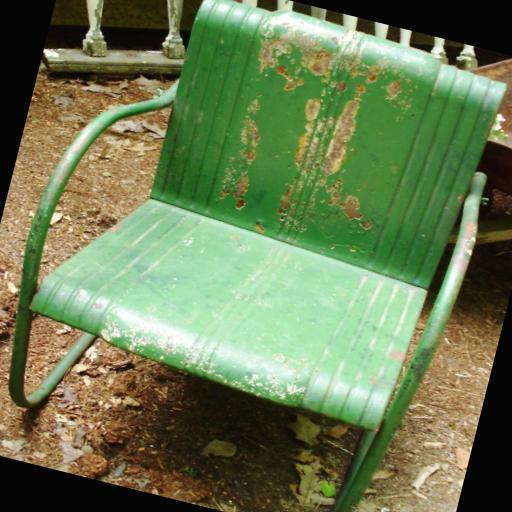segmentation: (259, 22, 413, 235), (240, 99, 260, 164)
